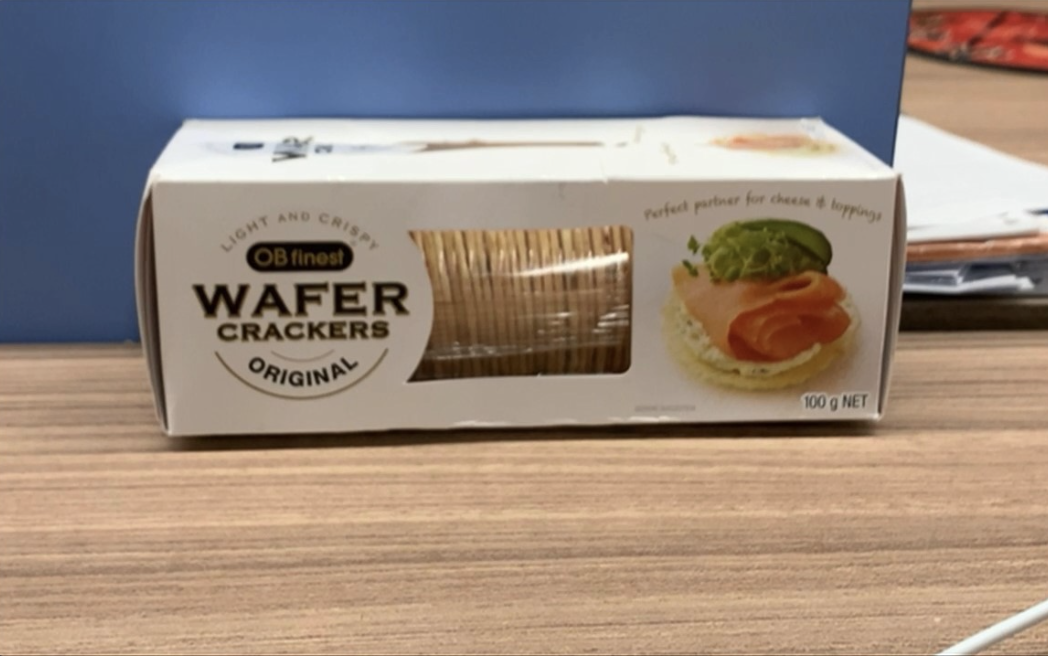crackers_100g-199g: (181, 184, 880, 421)
